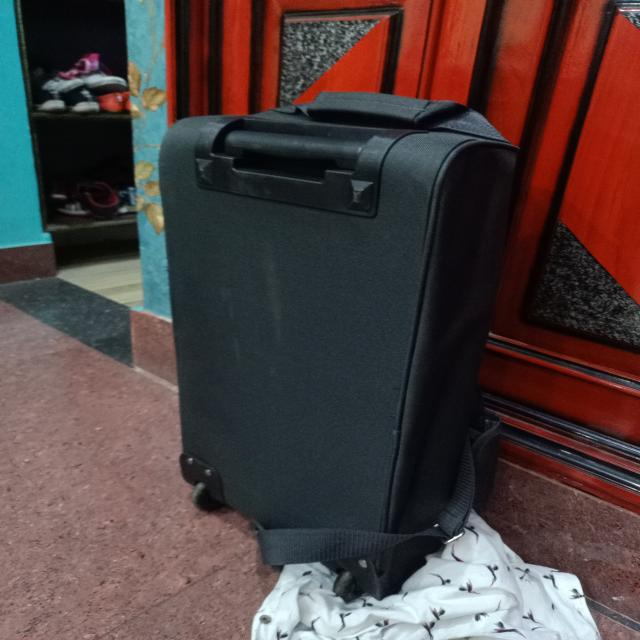suitcaserotation: (152, 86, 526, 605)
